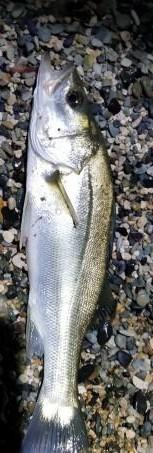fish: (20, 55, 114, 452)
